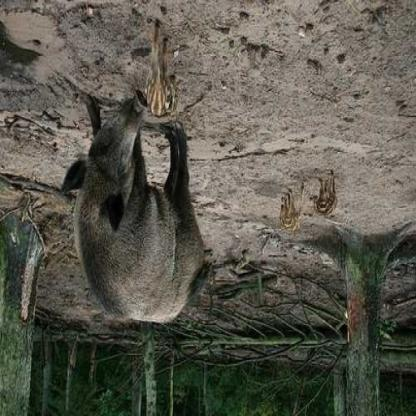boar: (47, 105, 237, 346), (134, 19, 187, 135), (268, 174, 310, 226), (310, 164, 344, 224)
